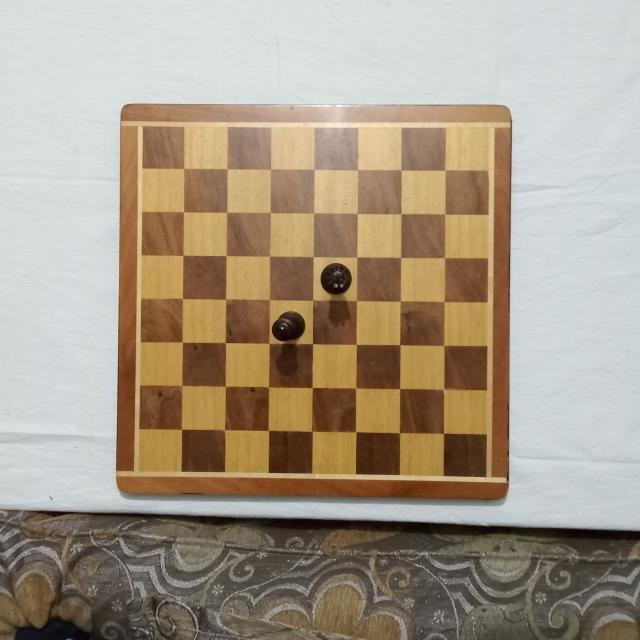black-king: (270, 310, 306, 342)
black-queen: (319, 262, 353, 294)
